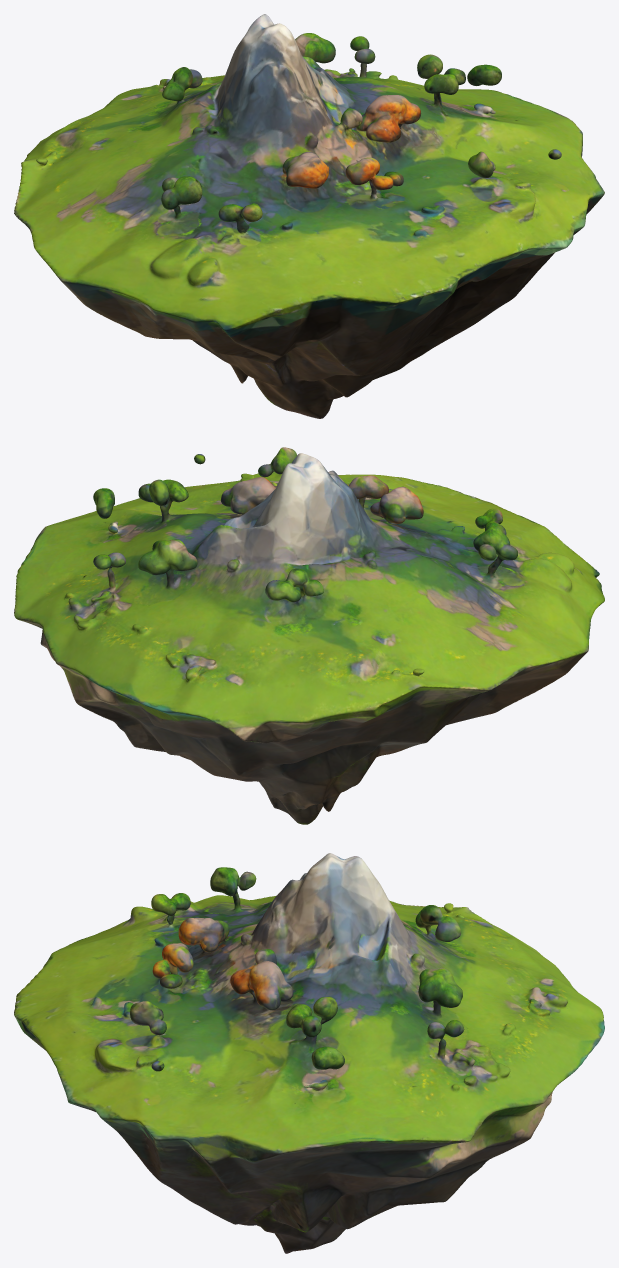
The model's file is Meshy_AI_Magical_floating_isla_1017060102_texture.fbx.
The picture shows the model from 3 angles, top to bottom: view 1: azimuth 30°, elevation 25°; view 2: azimuth 150°, elevation 25°; view 3: azimuth 270°, elevation 25°; orthographic projection. The views are drawn at different scales.
Visible parts, largest first — view 1: Mesh_0; view 2: Mesh_0; view 3: Mesh_0.
Part boxes in pixels (x1,y1,x2,y2): Mesh_0: (14,14,604,418); Mesh_0: (14,447,604,824); Mesh_0: (14,853,604,1253).
Size of the model in its own units: 199 by 136 by 189.
Materials: 1 (1 with a texture image).
